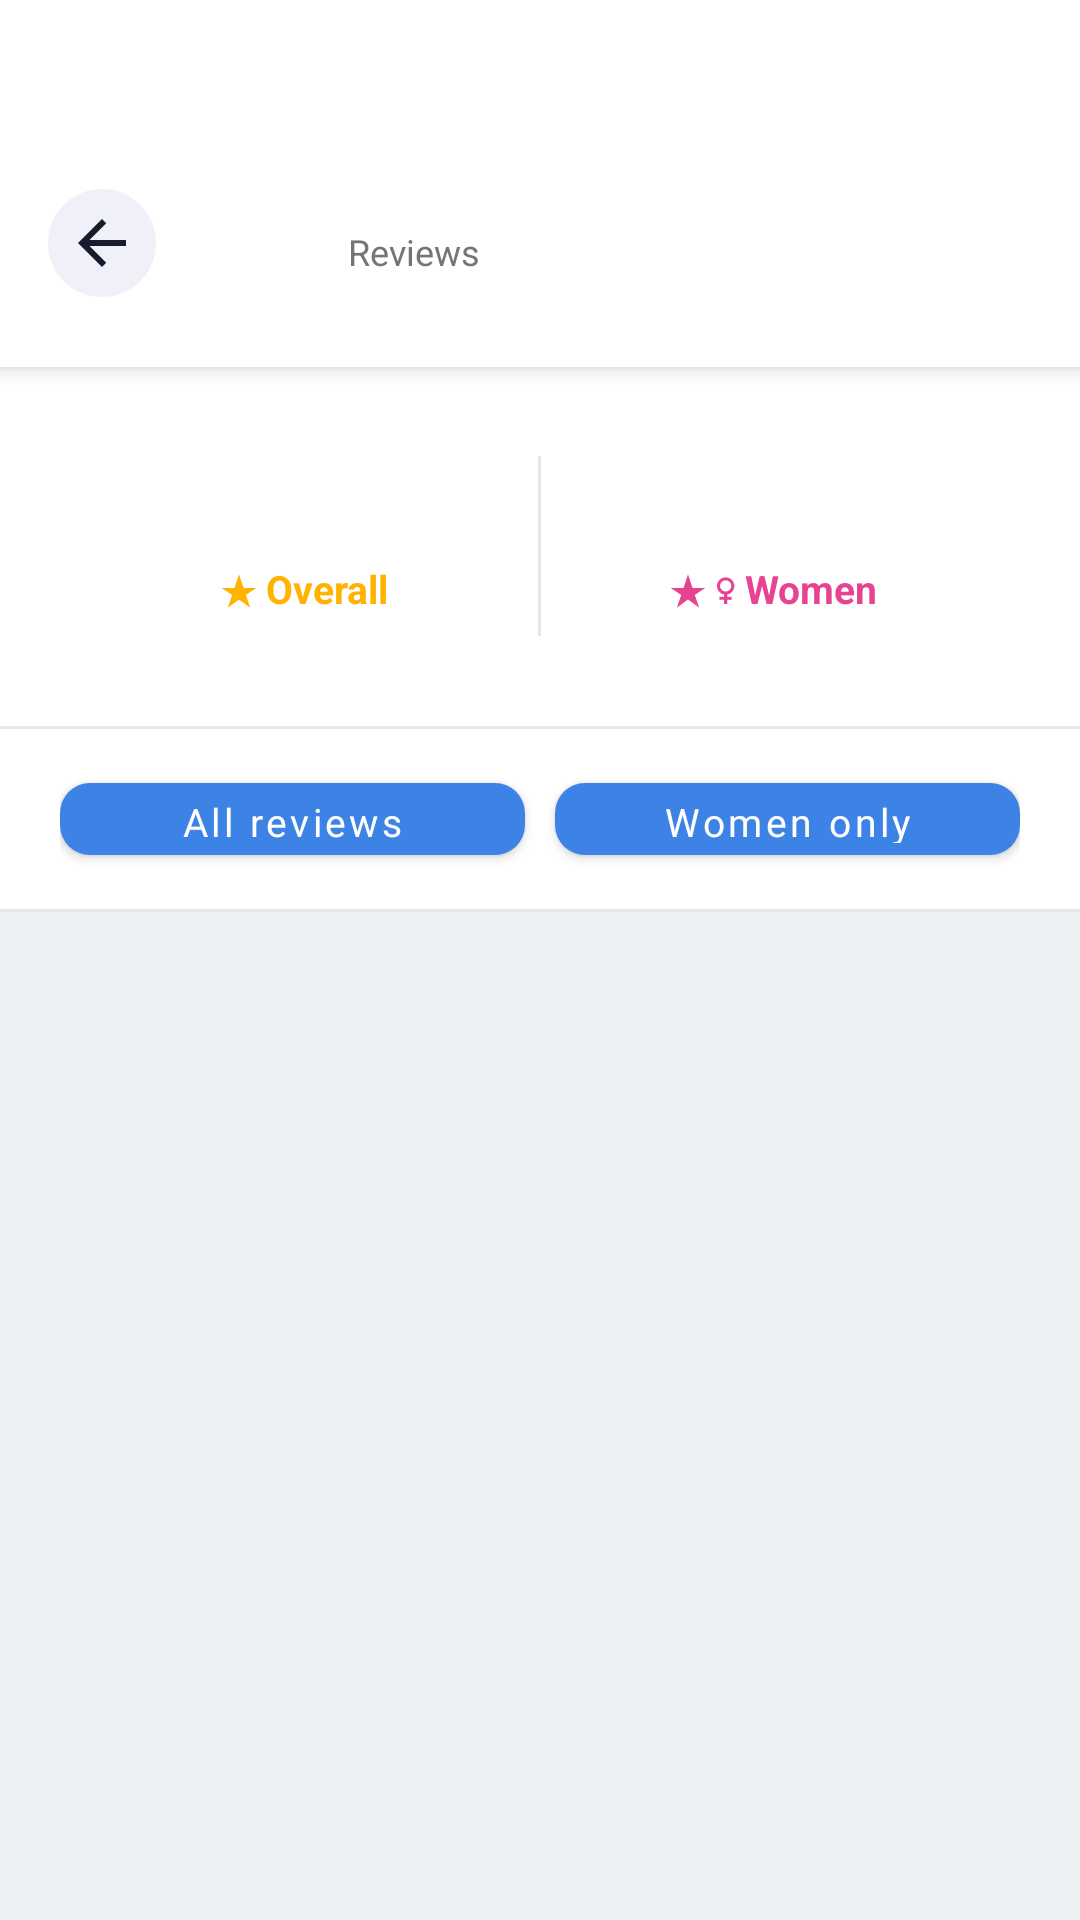

Where icons sit on this 1080x1920 app screen, as (x1, y1, x2, y2):
Back: (48, 189, 156, 297)
